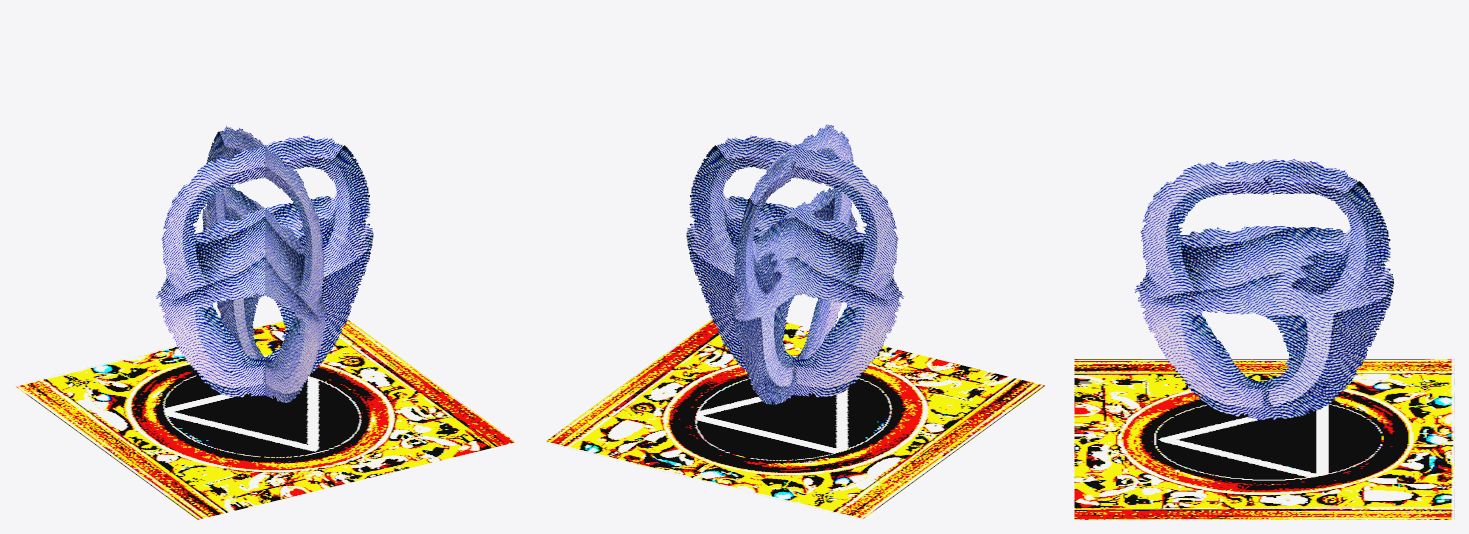
Rendered from tile_water.glb.
3 views of the same model, side by side, from view 1: azimuth 30°, elevation 25°; view 2: azimuth 150°, elevation 25°; view 3: azimuth 270°, elevation 25° (orthographic). The views are drawn at different scales.
Visible parts, largest first — view 1: water_frame, water, water.001; view 2: water_frame, water, water.001; view 3: water_frame, water.001.
Boxes of the visible parts, x1,y1,x2,y2 form: water_frame: (14,319,515,519); water: (156,135,373,397); water.001: (202,125,327,402); water_frame: (544,319,1045,519); water: (686,135,903,397); water.001: (732,124,857,404); water_frame: (1074,359,1454,519); water.001: (1134,159,1394,420).
Bounding box in the file's own units: 1 × 1 × 1.
2 materials, 2 textured.
